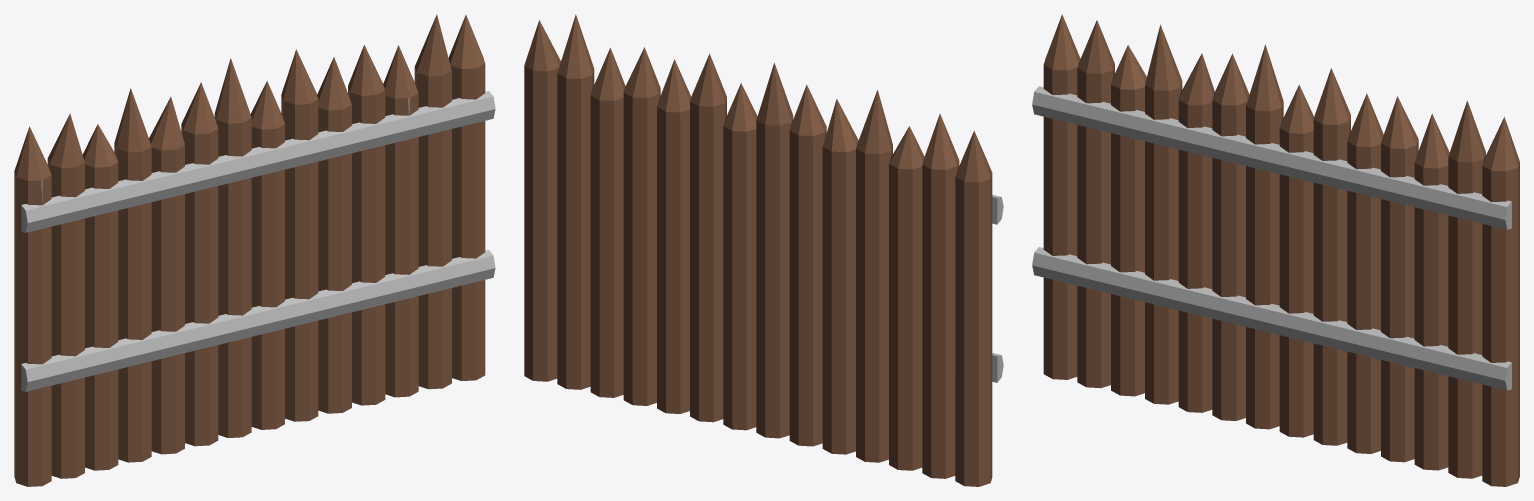
File: Defense_WallModel.fbx
The picture shows the model from 3 angles, left to right: view 1: azimuth 30°, elevation 25°; view 2: azimuth 150°, elevation 25°; view 3: azimuth 330°, elevation 25°; orthographic projection.
Parts seen in each view (by area): view 1: Cylinder, Cube; view 2: Cylinder, Cube; view 3: Cylinder, Cube.
Boxes of the visible parts, x1=… form: Cylinder: x1=14, y1=14, x2=485, y2=486; Cube: x1=21, y1=91, x2=495, y2=391; Cylinder: x1=524, y1=14, x2=992, y2=486; Cube: x1=992, y1=195, x2=1003, y2=382; Cylinder: x1=1043, y1=14, x2=1519, y2=486; Cube: x1=1032, y1=86, x2=1511, y2=390.
Bounding box in the file's own units: 800 × 607 × 65.11.
Materials: 1 (1 with a texture image).
